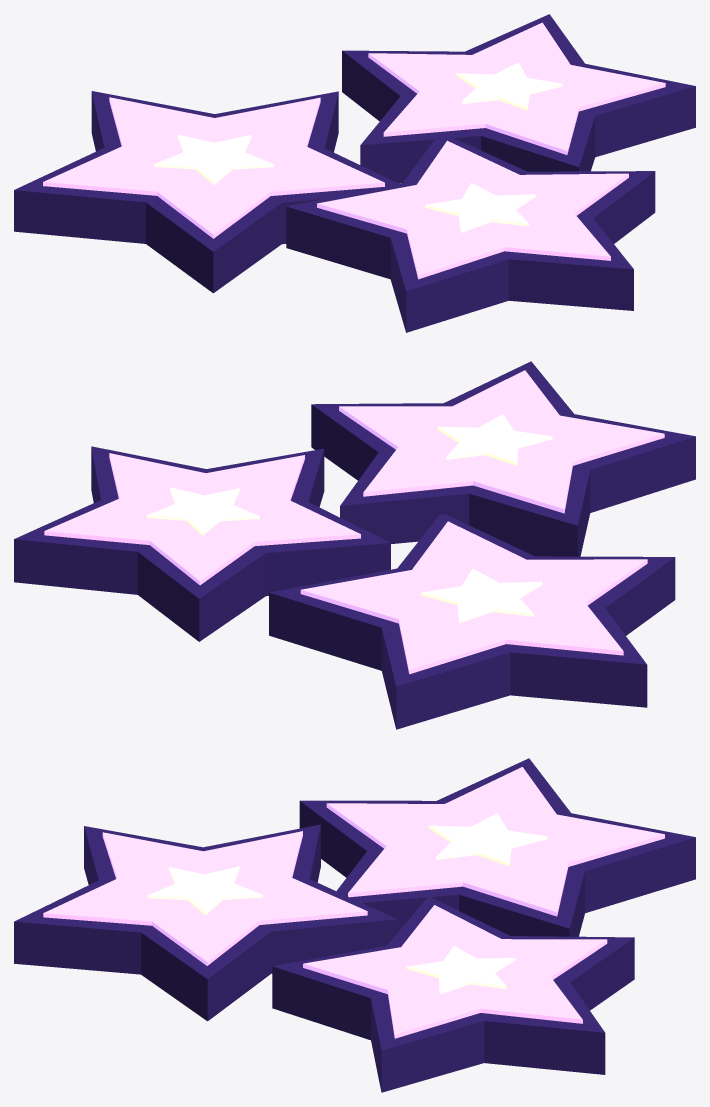
File: StarOlives.fbx
3 renders of one model, top to bottom at view 1: azimuth 30°, elevation 25°; view 2: azimuth 150°, elevation 25°; view 3: azimuth 270°, elevation 25°, orthographic. The views are drawn at different scales.
Parts seen in each view (by area): view 1: Top_3A2480, Top_785AFF_Neon, Top_FFE66E_Neon; view 2: Top_3A2480, Top_785AFF_Neon, Top_FFE66E_Neon; view 3: Top_3A2480, Top_785AFF_Neon, Top_FFE66E_Neon.
Part boxes in pixels (x1,y1,x2,y2): Top_3A2480: (14, 14, 695, 332); Top_785AFF_Neon: (43, 22, 665, 279); Top_FFE66E_Neon: (154, 62, 562, 232); Top_3A2480: (14, 361, 695, 729); Top_785AFF_Neon: (44, 370, 664, 674); Top_FFE66E_Neon: (147, 414, 552, 623); Top_3A2480: (14, 758, 695, 1092); Top_785AFF_Neon: (43, 767, 664, 1038); Top_FFE66E_Neon: (147, 813, 547, 994).
Size of the model in its own units: 2 by 0.2066 by 1.91.
